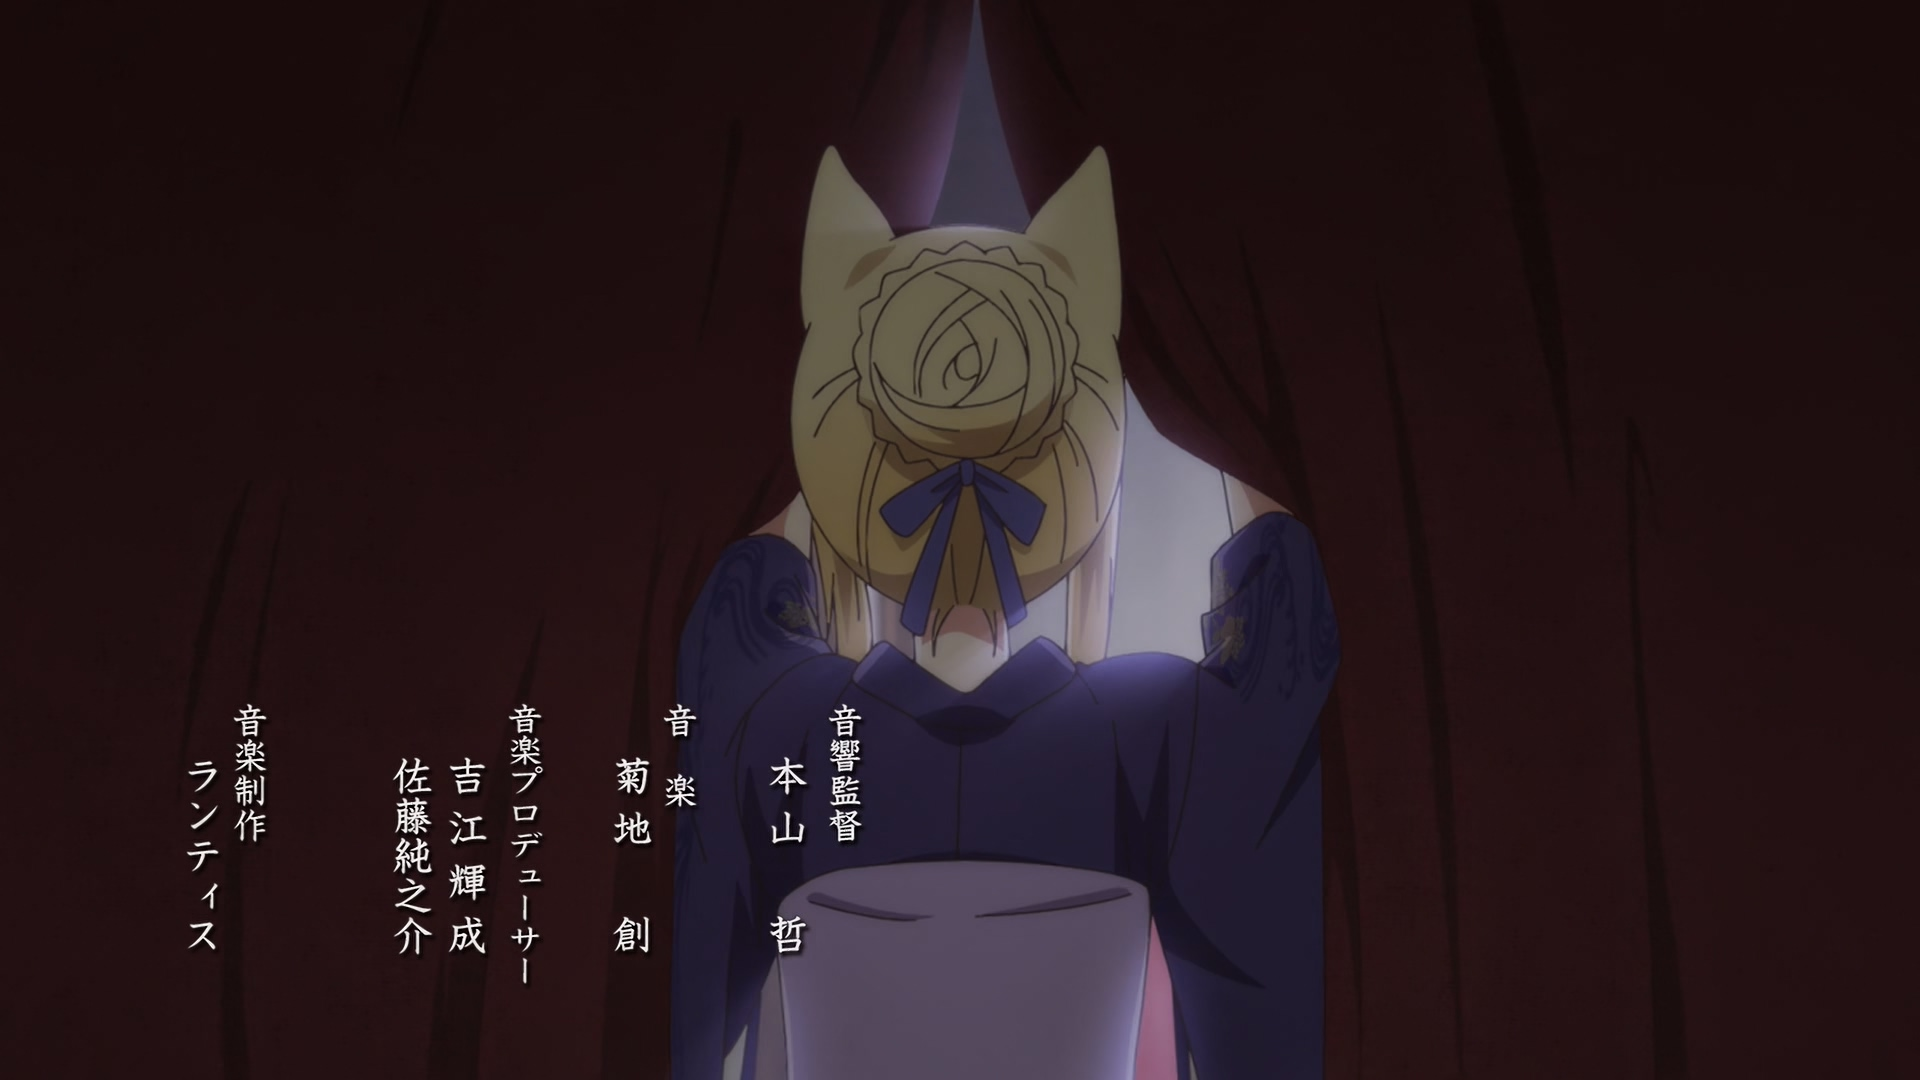桐: (673, 145, 1336, 1080)
